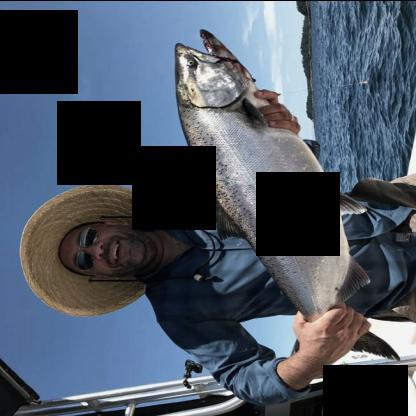fish: (172, 27, 400, 364)
